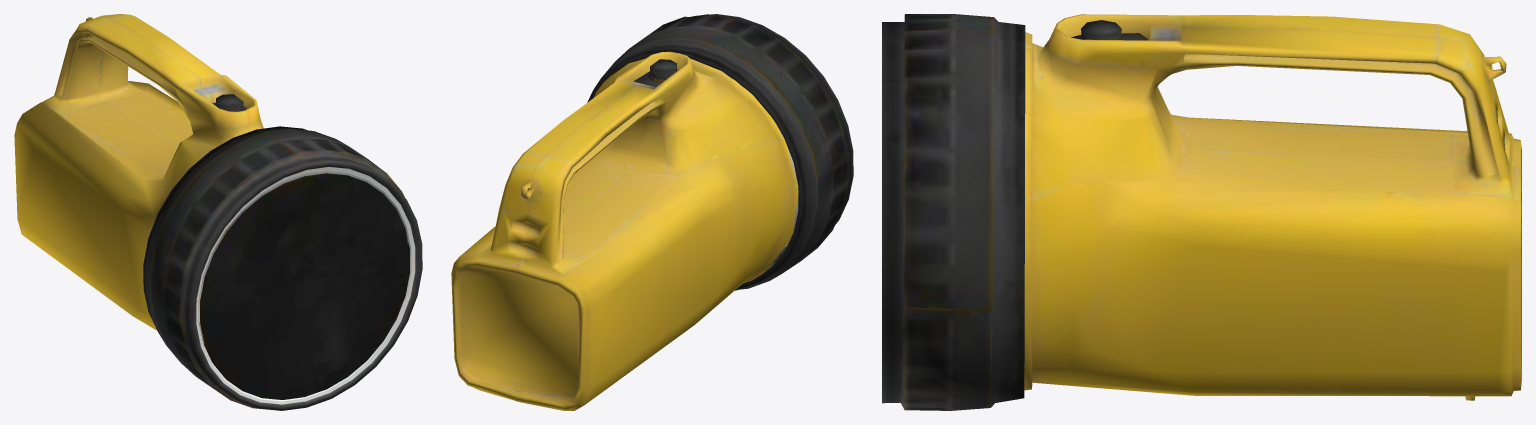
The model's file is pastic_torch_6v.glb.
The picture shows the model from 3 angles, left to right: view 1: azimuth 30°, elevation 25°; view 2: azimuth 150°, elevation 25°; view 3: azimuth 270°, elevation 25°; orthographic projection. The views are drawn at different scales.
Visible parts, largest first — view 1: pastic_torch_6v; view 2: pastic_torch_6v; view 3: pastic_torch_6v.
Boxes of the visible parts, <box> form: pastic_torch_6v: <box>14,14,422,410</box>; pastic_torch_6v: <box>451,14,853,410</box>; pastic_torch_6v: <box>882,14,1521,410</box>.
Bounding box in the file's own units: 0.1367 × 0.1417 × 0.2242.
Materials: 2 (2 with a texture image).
